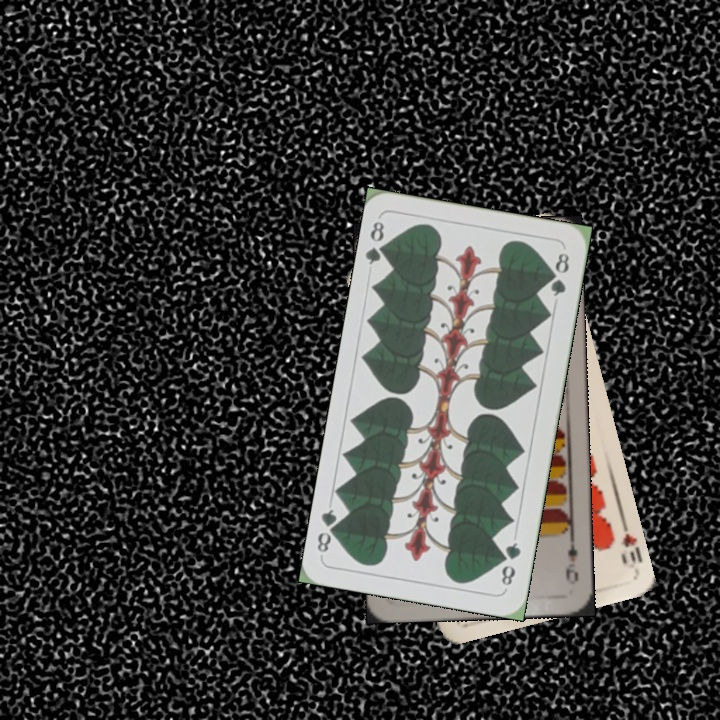E9: (562, 531, 581, 587)
G8: (362, 217, 393, 267), (497, 538, 524, 589)
H10: (616, 515, 645, 567)
